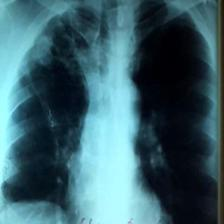tuberculosis: (2, 0, 218, 224)
